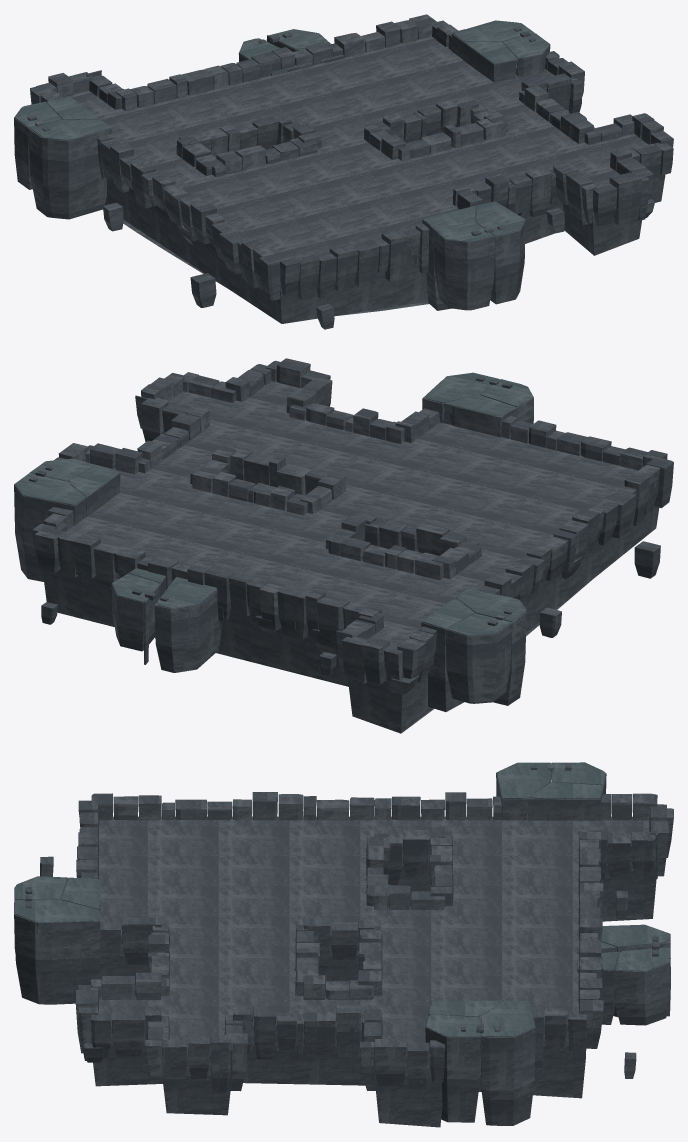
File: chapter2_stage24_geology.glb
3 renders of one model, top to bottom at view 1: azimuth 30°, elevation 25°; view 2: azimuth 150°, elevation 25°; view 3: azimuth 270°, elevation 25°, orthographic. The views are drawn at different scales.
Visible parts, largest first — view 1: stage24_continuous_rock_strata; view 2: stage24_continuous_rock_strata; view 3: stage24_continuous_rock_strata.
Boxes of the visible parts, x1,y1,x2,y2 form: stage24_continuous_rock_strata: (14, 14, 673, 329); stage24_continuous_rock_strata: (14, 358, 673, 733); stage24_continuous_rock_strata: (14, 762, 673, 1127).
Bounding box in the file's own units: 9.31 × 1.66 × 9.32.
Materials: 2 (2 with a texture image).
